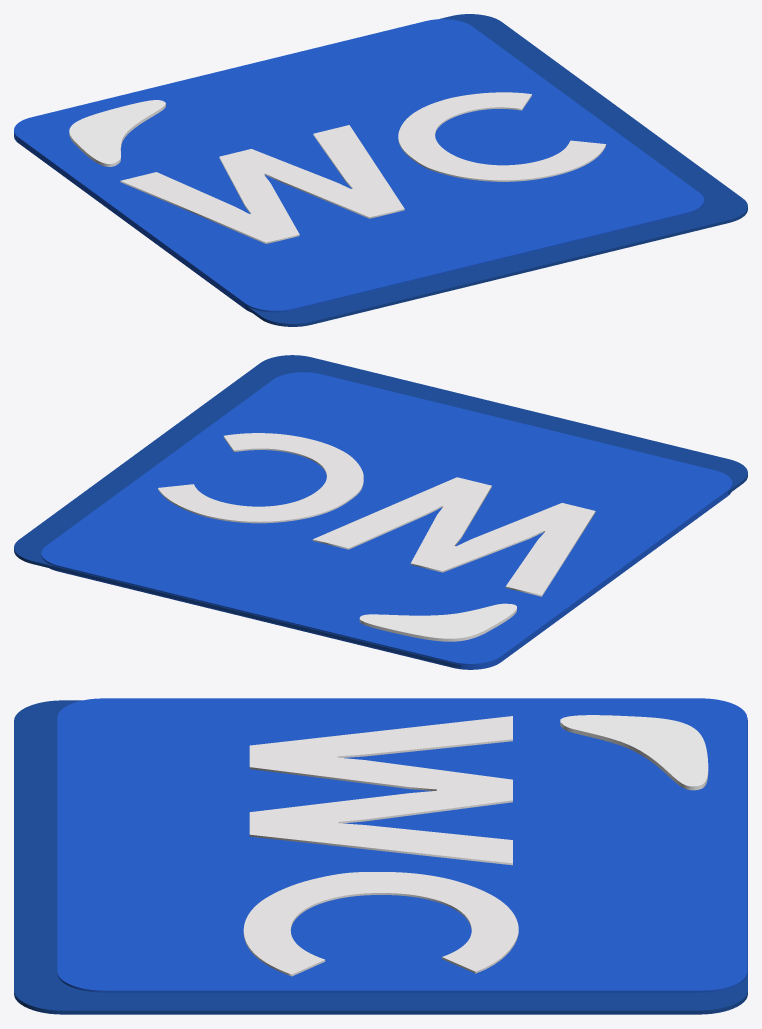
The model's file is emoji_u1f6be.glb.
3 renders of one model, top to bottom at view 1: azimuth 30°, elevation 25°; view 2: azimuth 150°, elevation 25°; view 3: azimuth 270°, elevation 25°, orthographic. The views are drawn at different scales.
Parts seen in each view (by area): view 1: emoji_u1f6be; view 2: emoji_u1f6be; view 3: emoji_u1f6be.
Boxes of the visible parts, x1,y1,x2,y2 form: emoji_u1f6be: (14,14,747,326); emoji_u1f6be: (14,355,747,669); emoji_u1f6be: (14,698,747,1014).
Bounding box in the file's own units: 0.0339 × 0.0008 × 0.0339.
